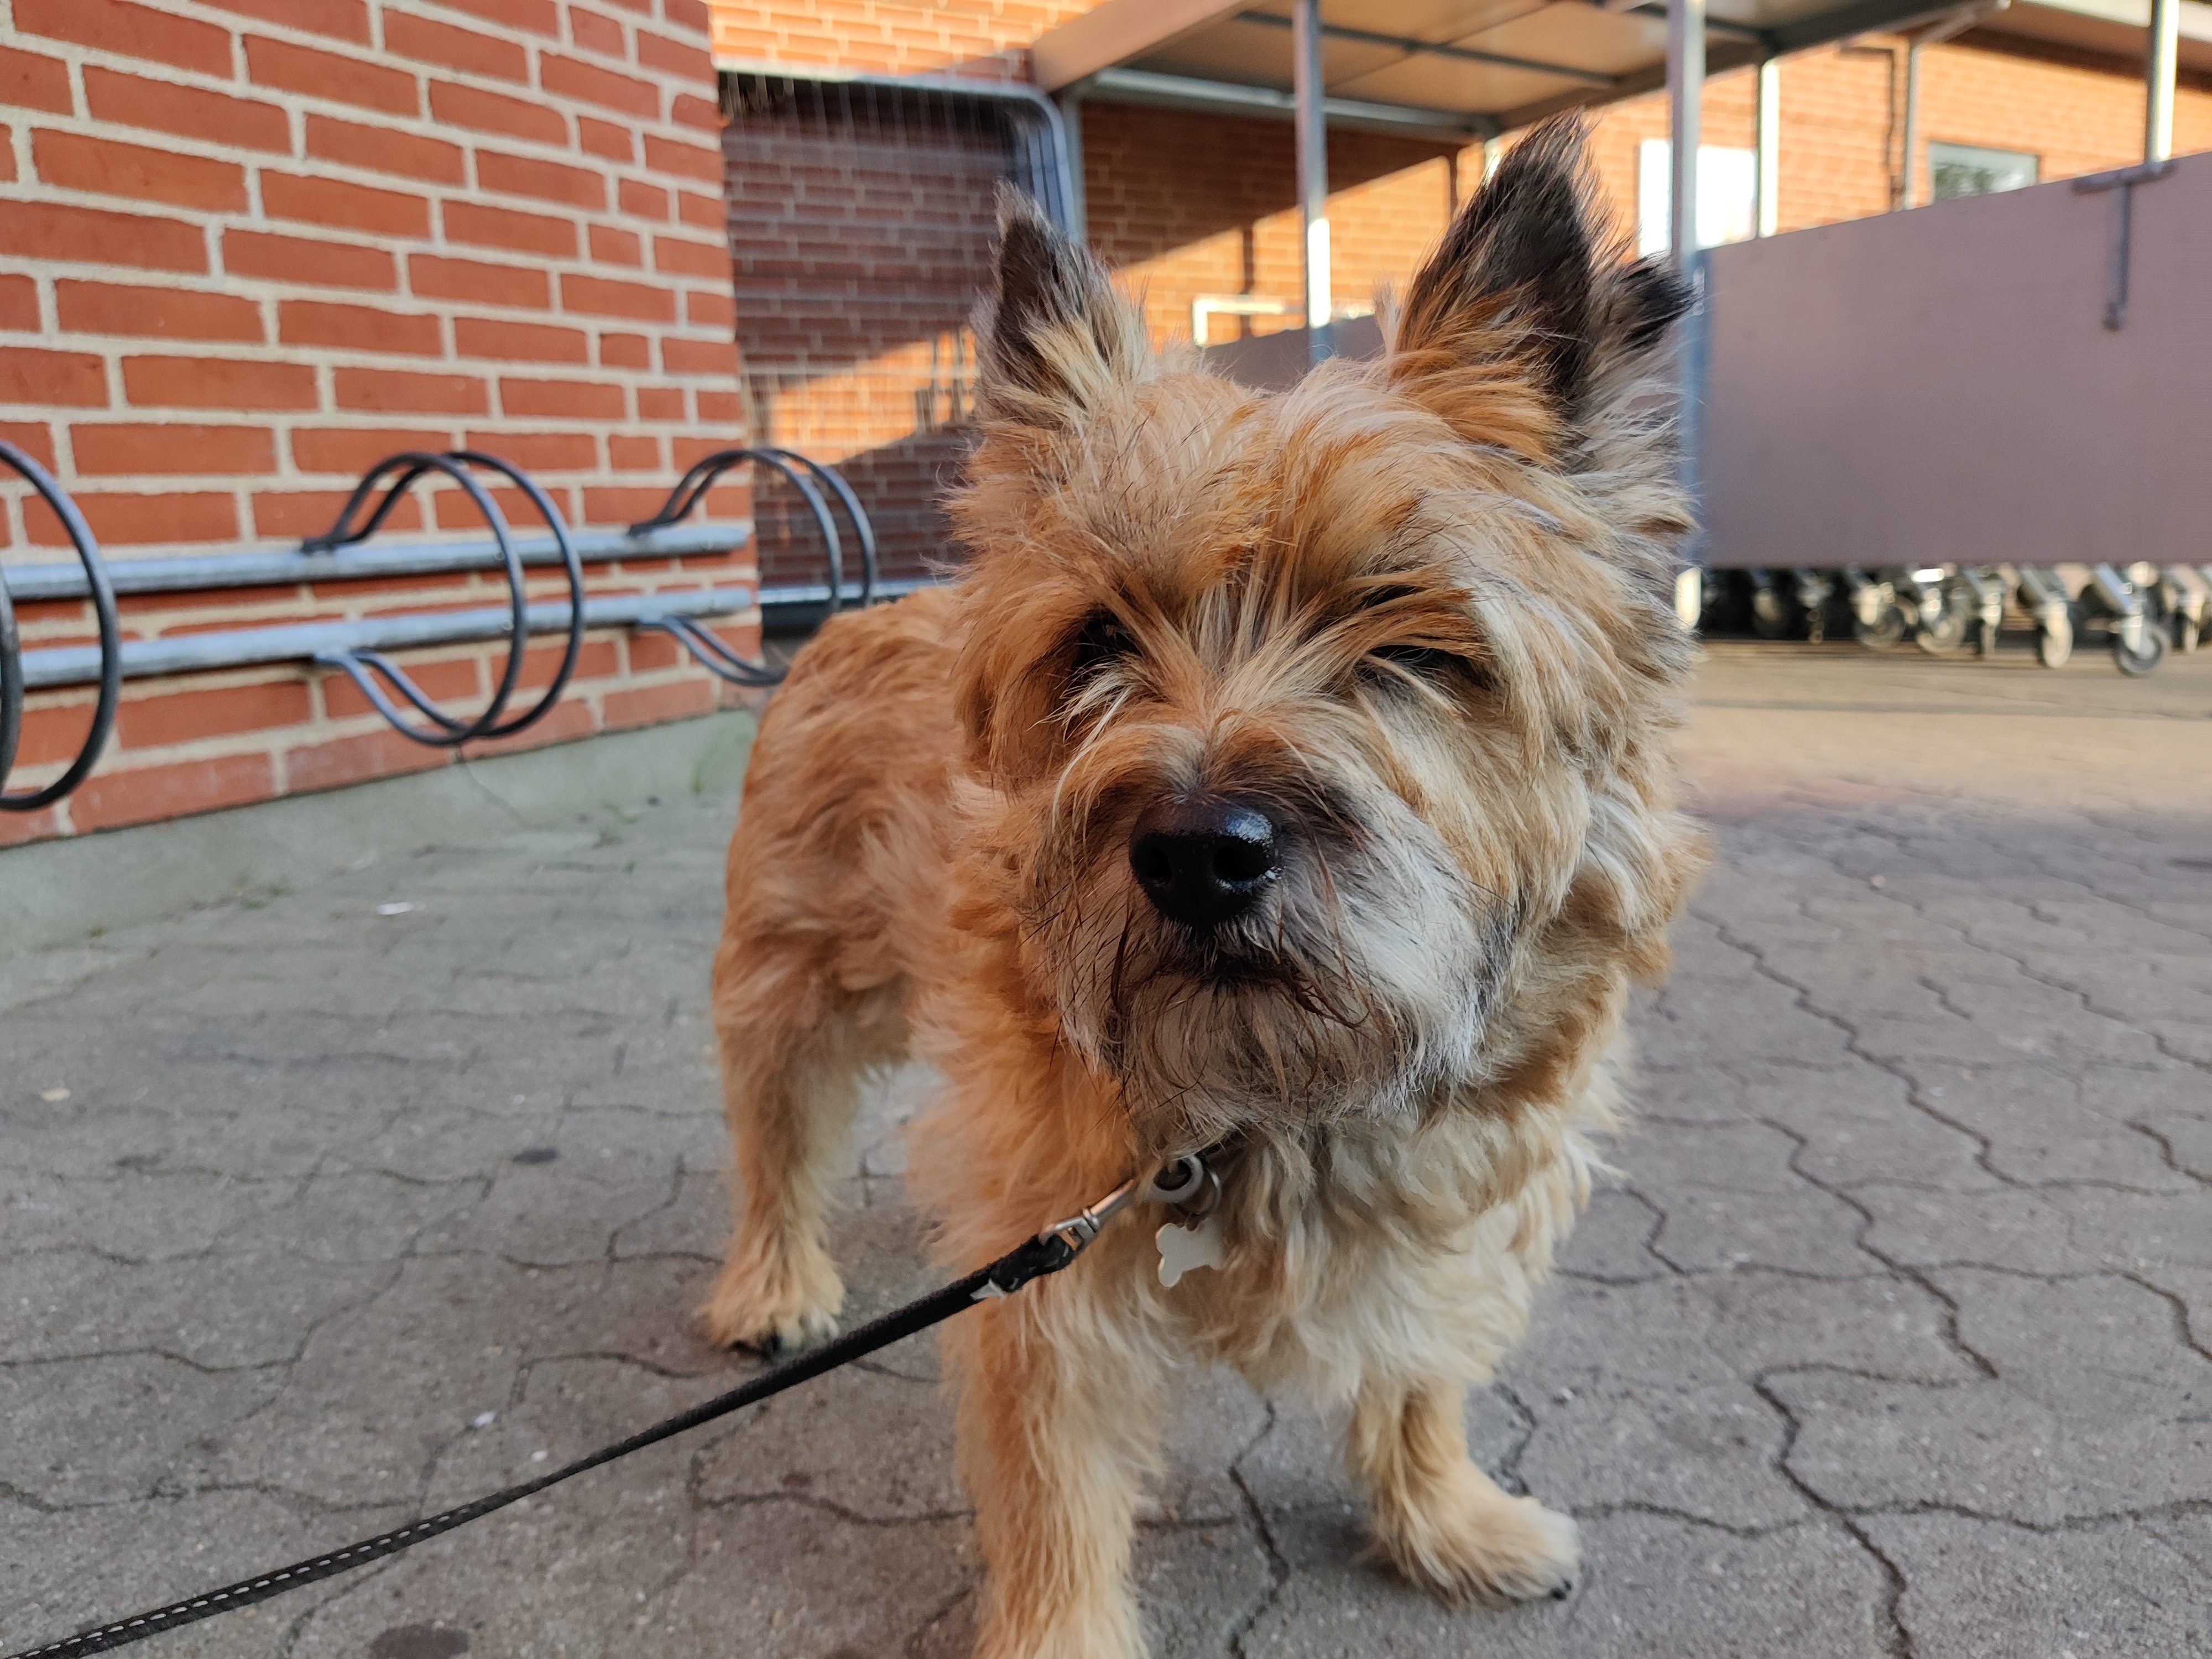Dog: (693, 98, 1719, 1659)
